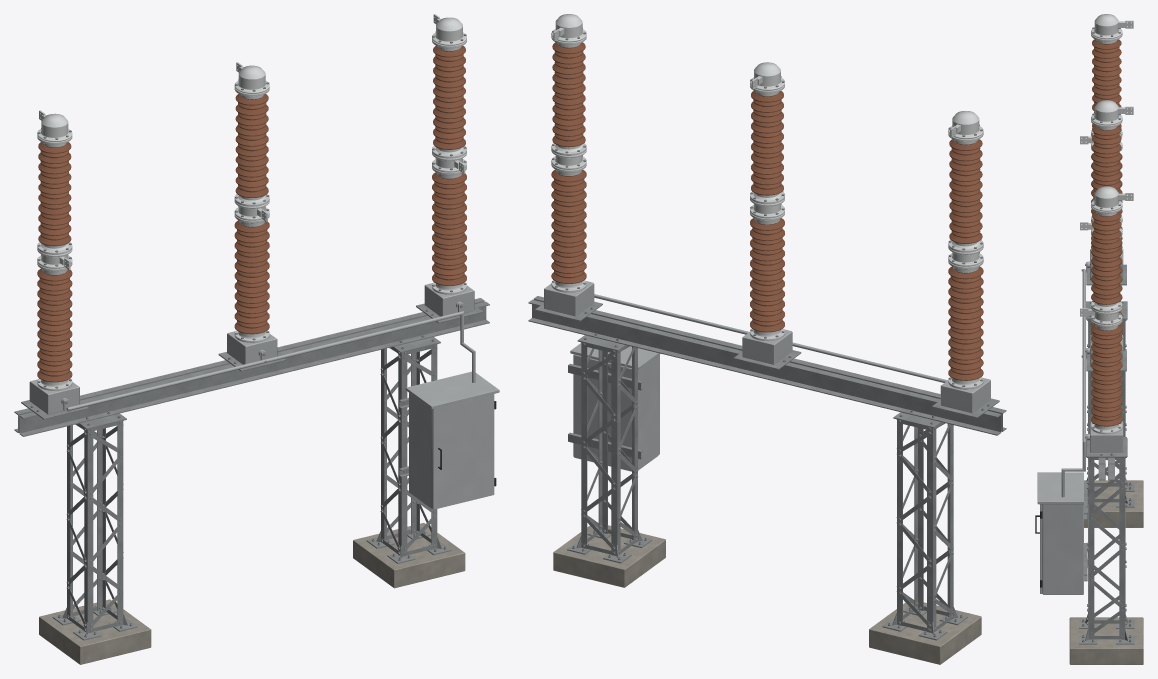
Rendered from Breaker_138kV.fbx.
3 renders of one model, left to right at view 1: azimuth 30°, elevation 25°; view 2: azimuth 150°, elevation 25°; view 3: azimuth 270°, elevation 25°, orthographic. The views are drawn at different scales.
Parts seen in each view (by area): view 1: Body_GalvanizedSteel_LOD0, Body_PorcelainBrown_LOD0, Body_CoatedSteel_LOD0, Body_Concrete_LOD0, Body_Aluminium_LOD0, ControlCabinet_Door_LOD0; view 2: Body_GalvanizedSteel_LOD0, Body_PorcelainBrown_LOD0, Body_CoatedSteel_LOD0, Body_Concrete_LOD0, Body_Aluminium_LOD0; view 3: Body_PorcelainBrown_LOD0, Body_GalvanizedSteel_LOD0, Body_CoatedSteel_LOD0, Body_Concrete_LOD0, Body_Aluminium_LOD0, ControlCabinet_Door_LOD0.
Part boxes in pixels (bbox=[...]): Body_GalvanizedSteel_LOD0: bbox=[14, 31, 489, 640]; Body_PorcelainBrown_LOD0: bbox=[37, 46, 466, 382]; Body_CoatedSteel_LOD0: bbox=[29, 283, 499, 509]; Body_Concrete_LOD0: bbox=[39, 523, 465, 664]; Body_Aluminium_LOD0: bbox=[37, 14, 466, 390]; ControlCabinet_Door_LOD0: bbox=[432, 394, 494, 509]; Body_GalvanizedSteel_LOD0: bbox=[528, 28, 1006, 640]; Body_PorcelainBrown_LOD0: bbox=[551, 42, 983, 380]; Body_CoatedSteel_LOD0: bbox=[544, 281, 990, 471]; Body_Concrete_LOD0: bbox=[553, 525, 981, 664]; Body_Aluminium_LOD0: bbox=[551, 14, 983, 389]; Body_PorcelainBrown_LOD0: bbox=[1091, 39, 1122, 426]; Body_GalvanizedSteel_LOD0: bbox=[1079, 27, 1134, 644]; Body_CoatedSteel_LOD0: bbox=[1037, 249, 1123, 594]; Body_Concrete_LOD0: bbox=[1069, 480, 1143, 664]; Body_Aluminium_LOD0: bbox=[1080, 14, 1133, 434]; ControlCabinet_Door_LOD0: bbox=[1035, 504, 1042, 593].
Size of what is drawn, in the model's own units: 5.2 by 5.7 by 1.17.
